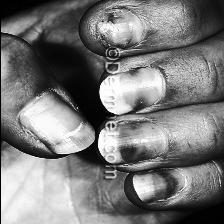Toxin: (42, 116, 96, 156), (97, 1, 133, 46), (118, 120, 152, 164), (130, 170, 174, 203), (119, 70, 150, 113)
